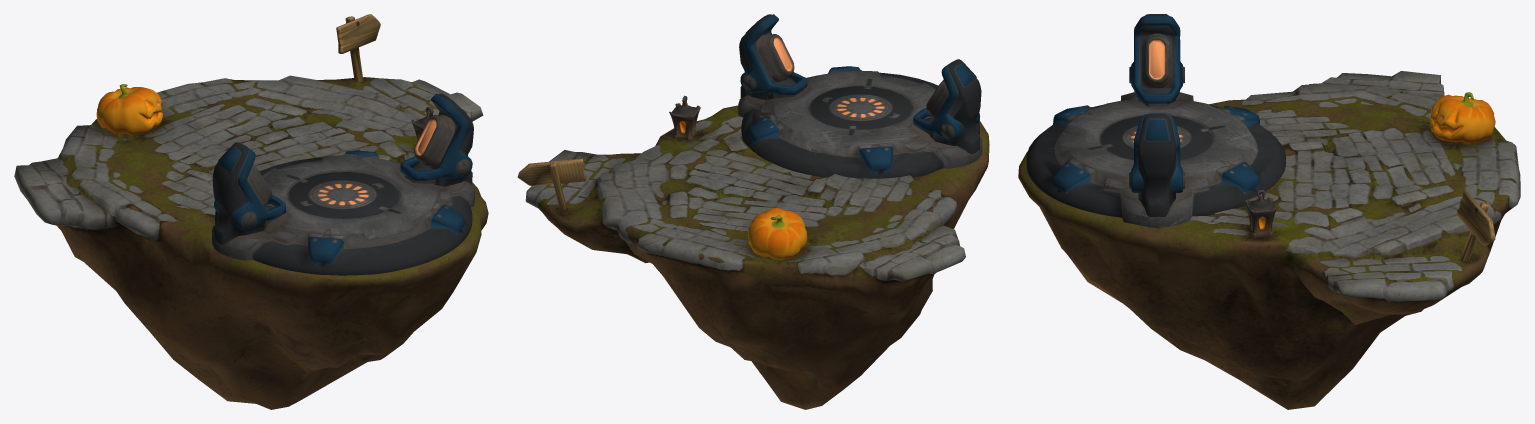
File: start.glb
3 renders of one model, left to right at view 1: azimuth 30°, elevation 25°; view 2: azimuth 150°, elevation 25°; view 3: azimuth 270°, elevation 25°, orthographic. The views are drawn at different scales.
Parts seen in each view (by area): view 1: Start_island_low, Teleport_low; view 2: Start_island_low, Teleport_low; view 3: Start_island_low, Teleport_low.
Boxes of the visible parts, x1,y1,x2,y2 form: Start_island_low: (14, 14, 488, 409); Teleport_low: (212, 93, 474, 275); Start_island_low: (517, 95, 989, 409); Teleport_low: (738, 14, 982, 178); Start_island_low: (1018, 71, 1520, 409); Teleport_low: (1026, 14, 1286, 228).
Size of the model in its own units: 39.52 by 28.88 by 38.9.
2 materials, 2 textured.
